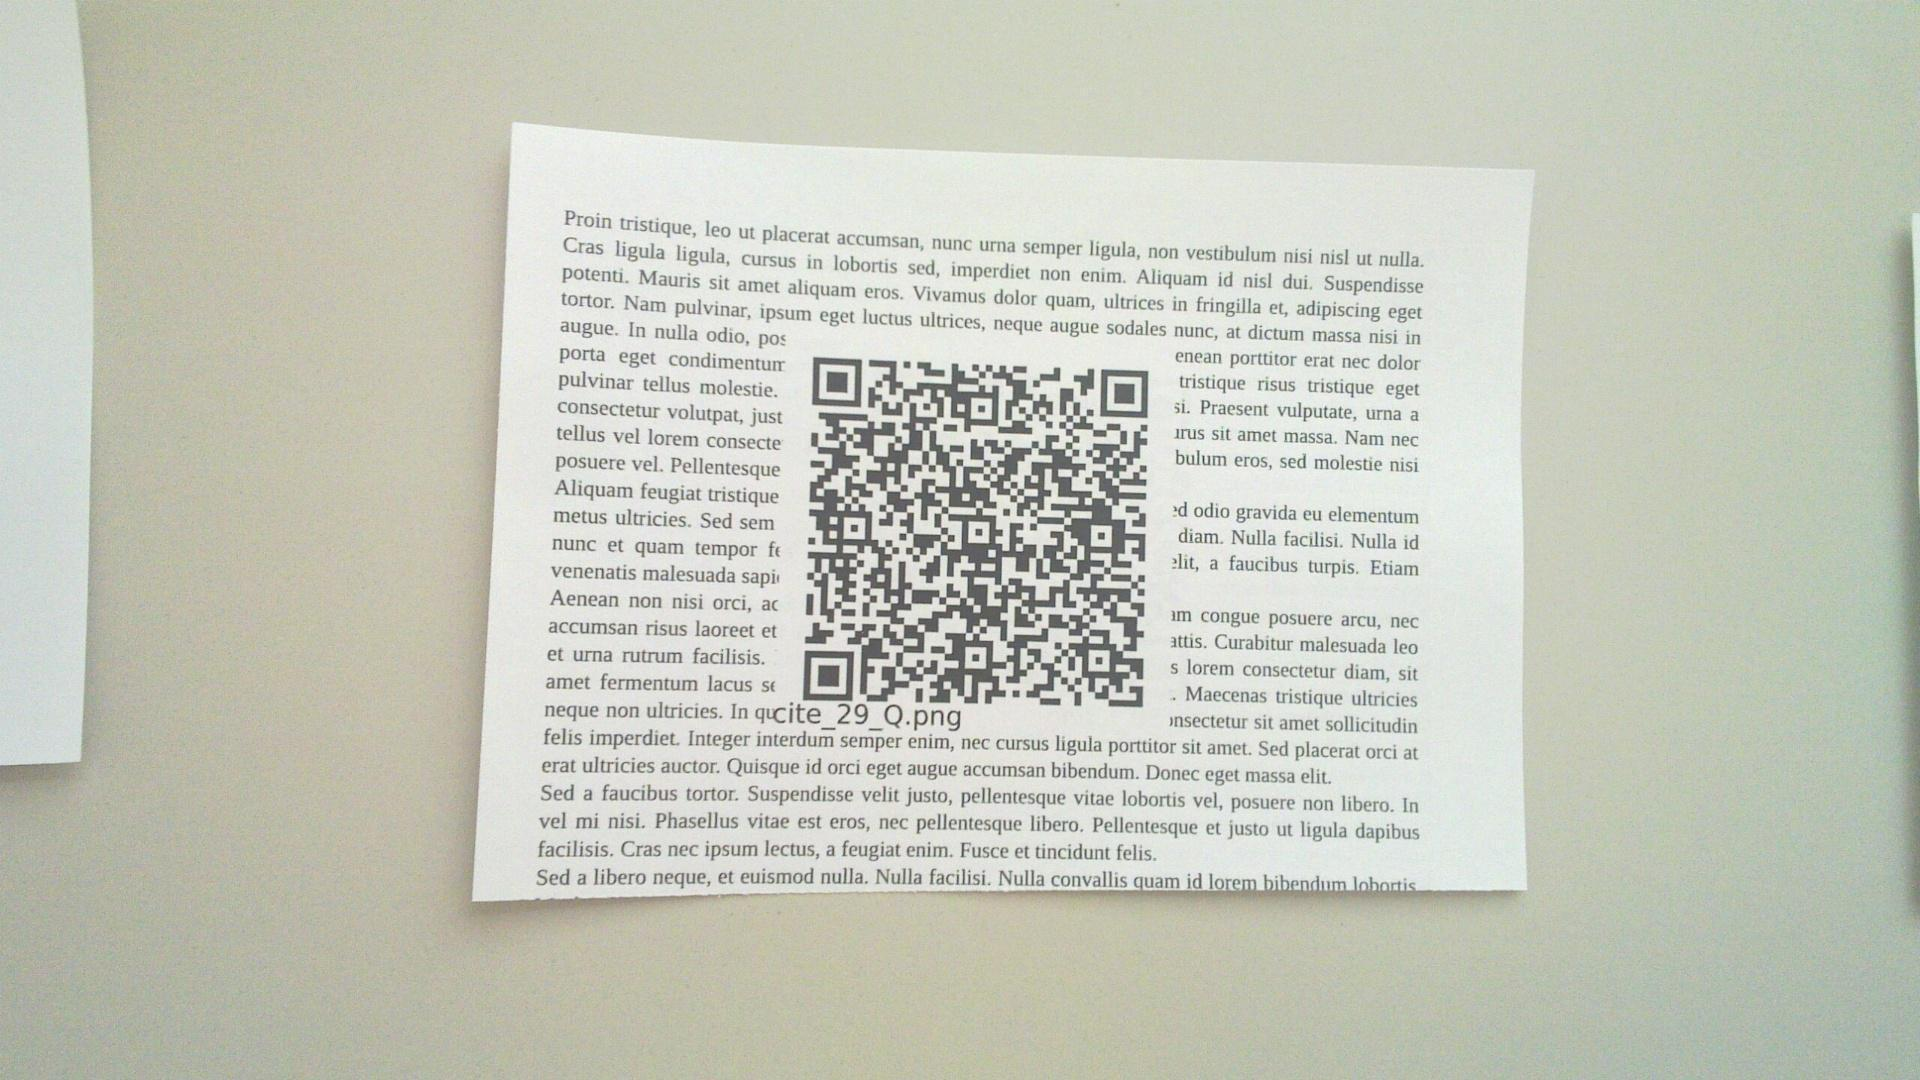qr_code: (803, 356, 1147, 708)
